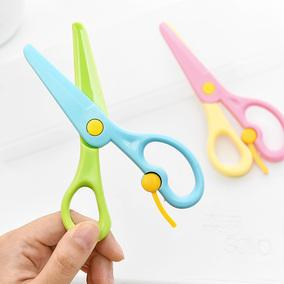scissor: (20, 20, 205, 245), (158, 19, 284, 178)
